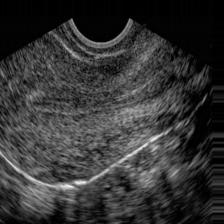no-pcos: (1, 57, 206, 215)
